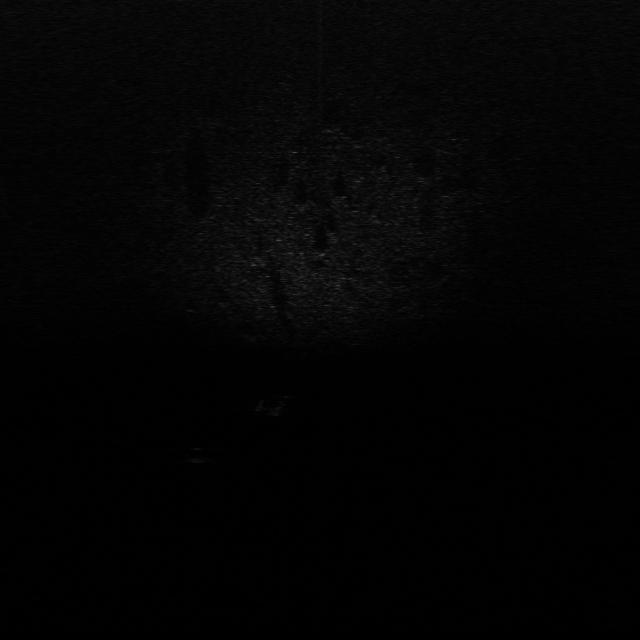ball: (183, 444, 211, 466)
human body: (259, 393, 292, 418)
